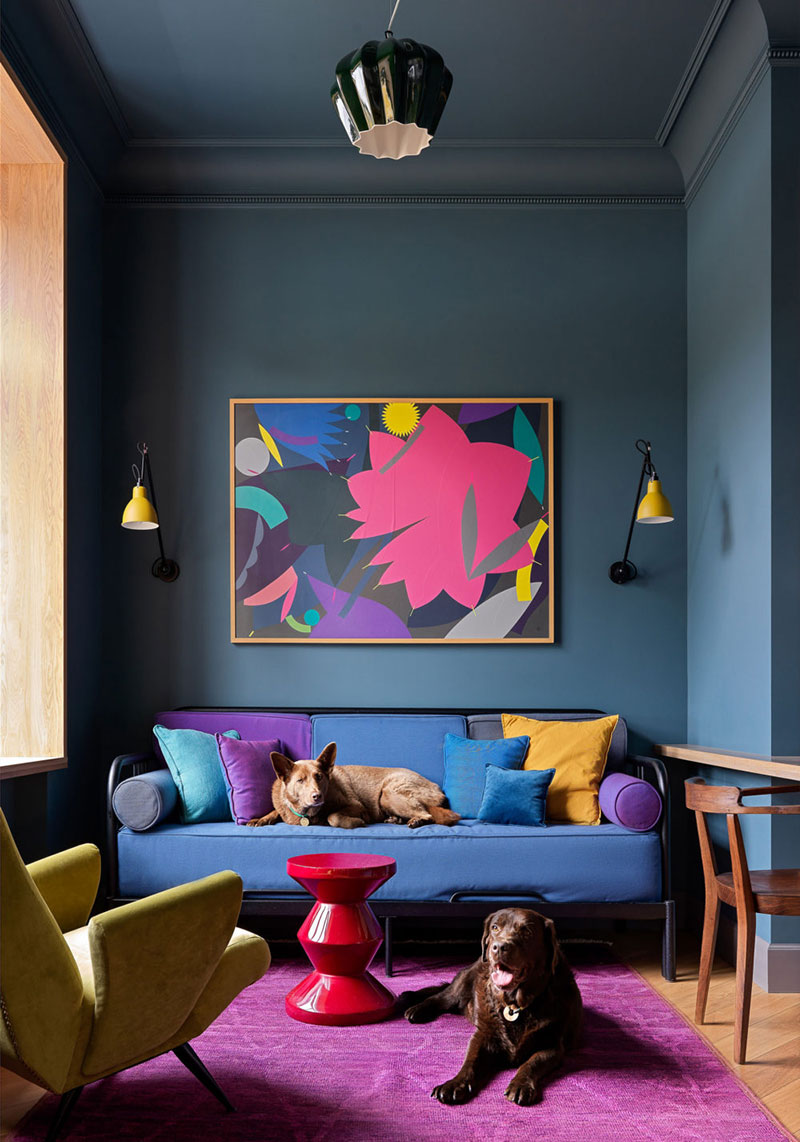biru: (155, 723, 228, 816), (153, 721, 226, 814), (447, 731, 520, 814), (478, 766, 551, 824)
kuning: (512, 715, 615, 820), (639, 480, 673, 518), (120, 487, 154, 525)
merah: (288, 850, 392, 1026)
ungu: (220, 732, 276, 816), (605, 776, 657, 833)
